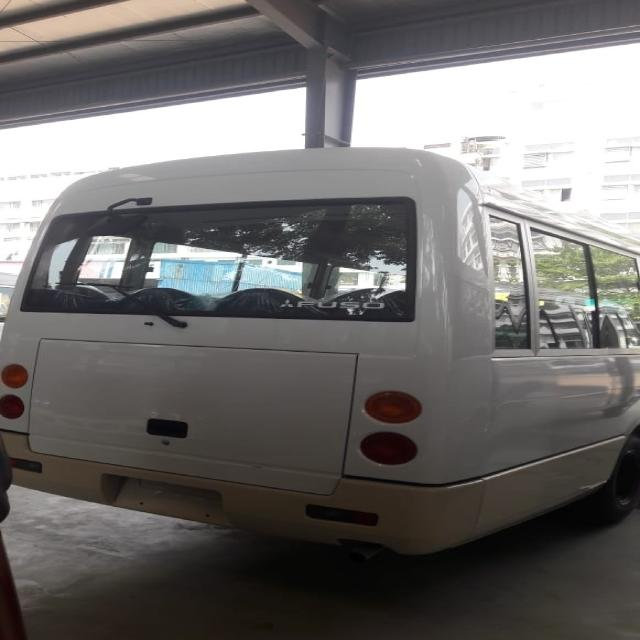bus: (2, 136, 640, 571)
